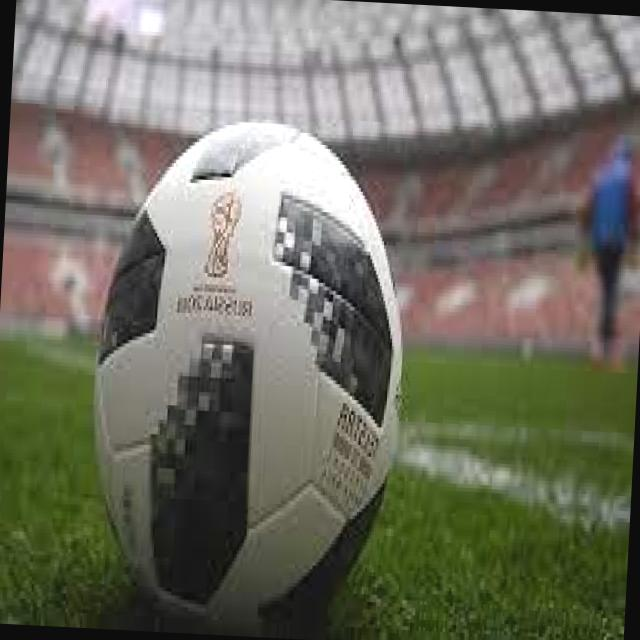Soccer Ball: (77, 111, 412, 640)
